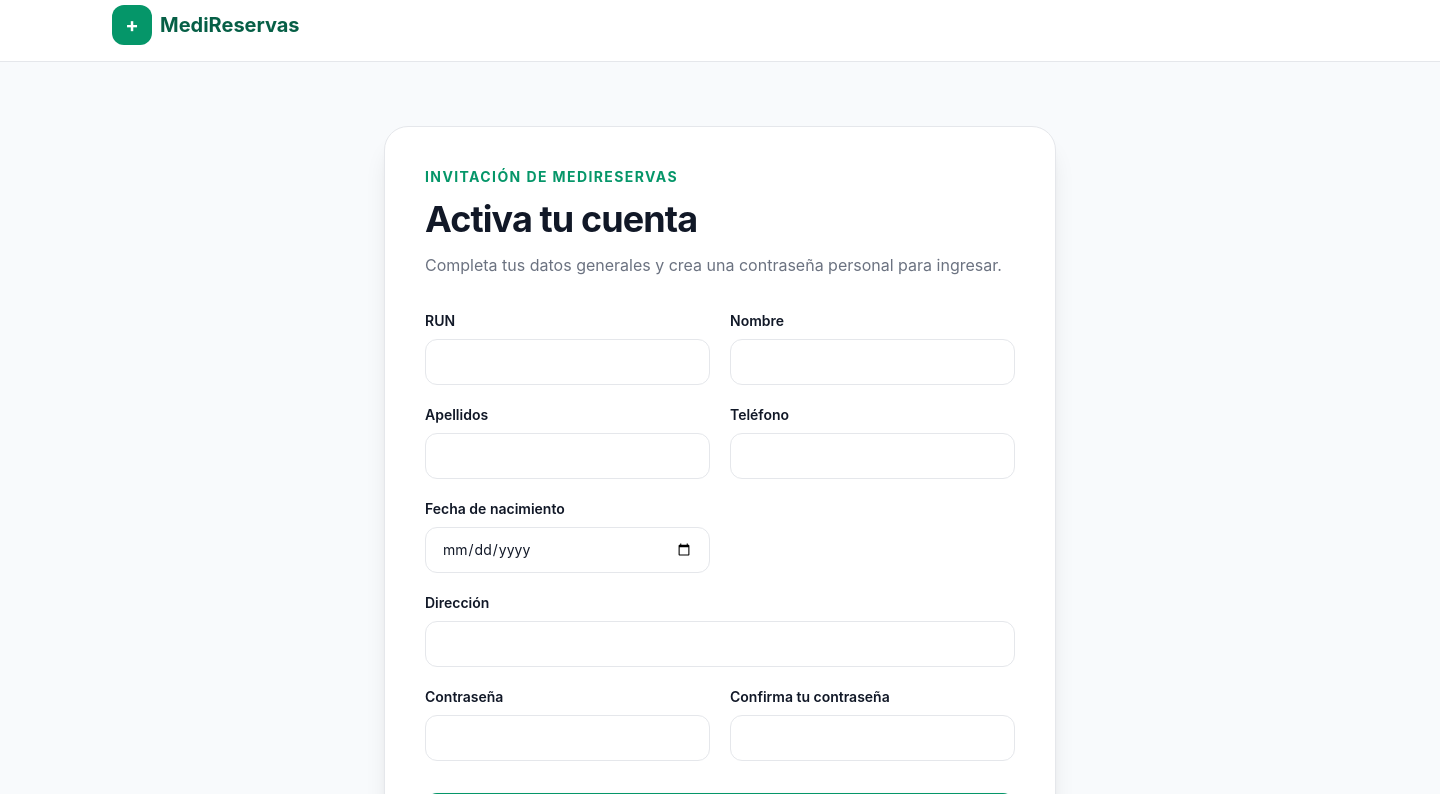
Activación por invitación › muestra el motivo del servidor si debe recuperar una activación anterior
Type "12345678-5" into the field labelled "RUN" at x=568, y=362, box [425,339,710,385]
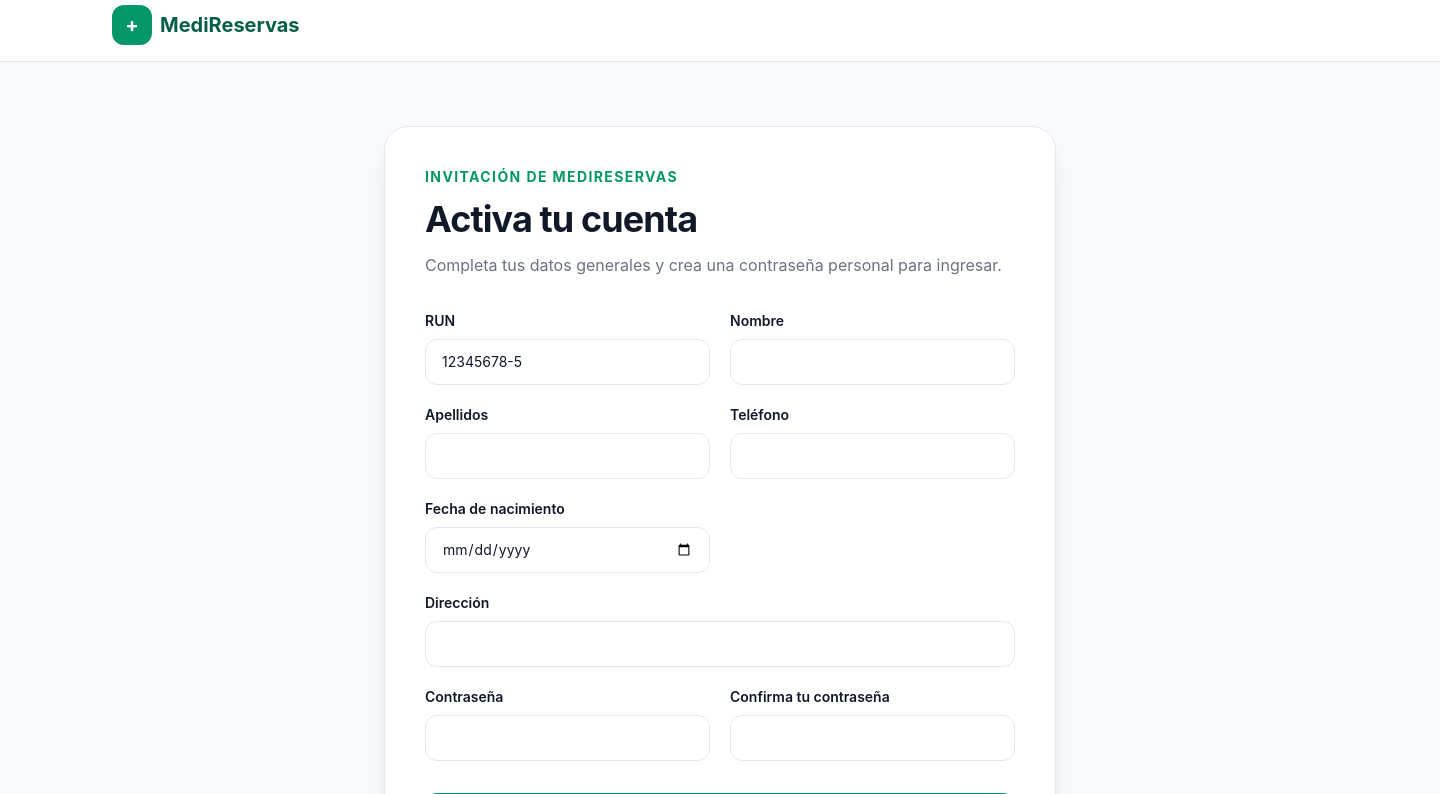
Type "Ana" into the field labelled "Nombre" at x=872, y=362, box [730,339,1015,385]
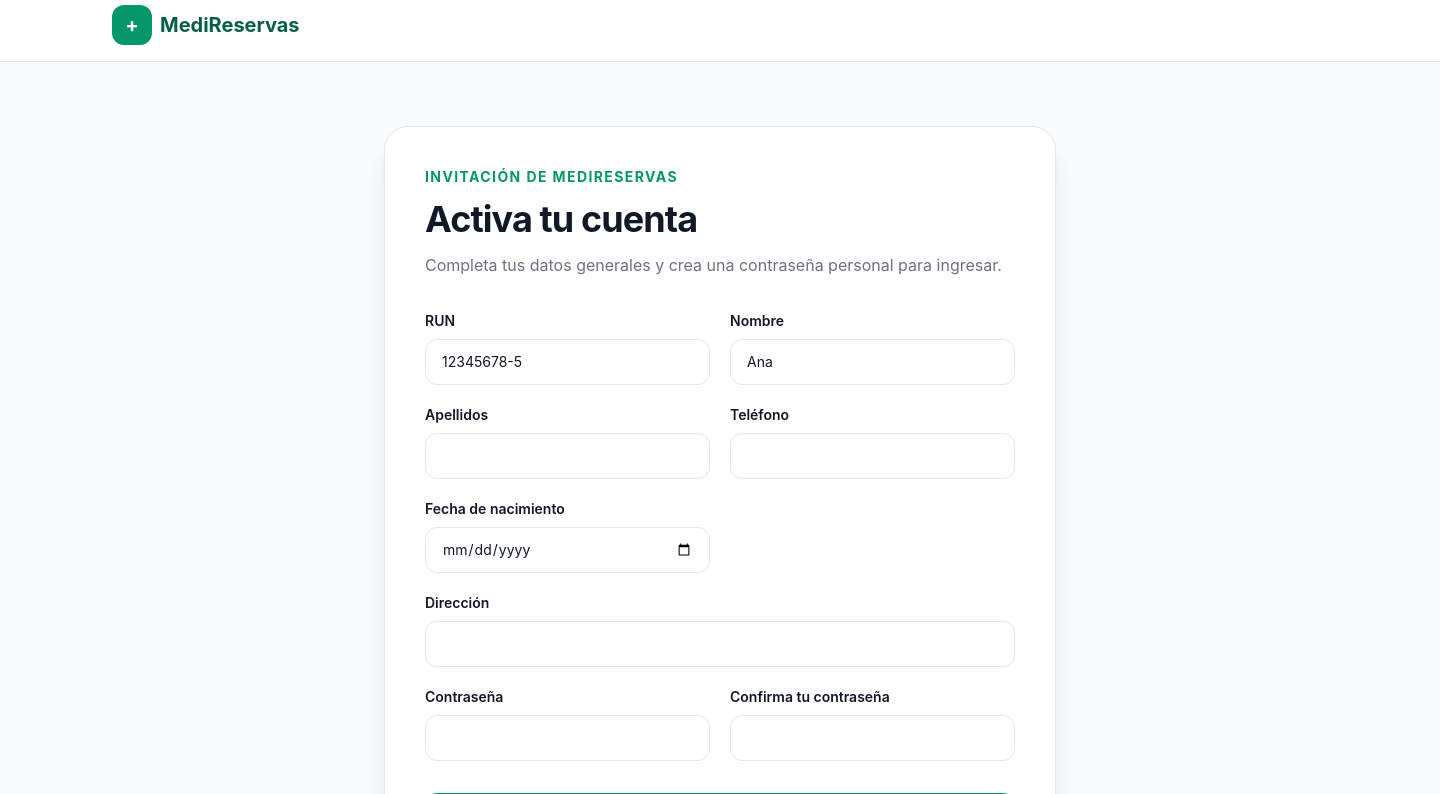
Type "Paciente" into the field labelled "Apellidos" at x=568, y=456, box [425,433,710,479]
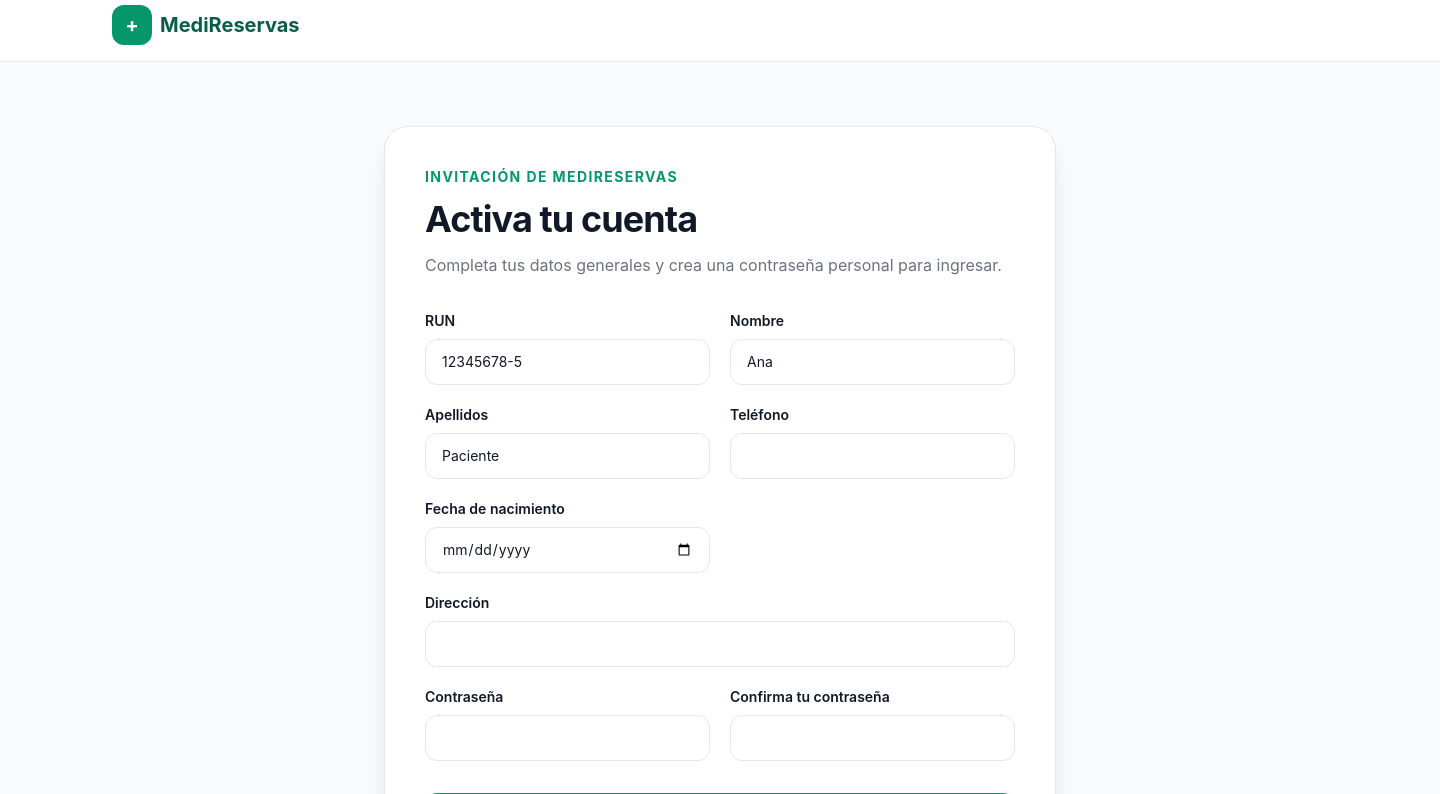
Type "same-password-123" into the password field labelled "Contraseña" at x=568, y=738, box [425,715,710,761]
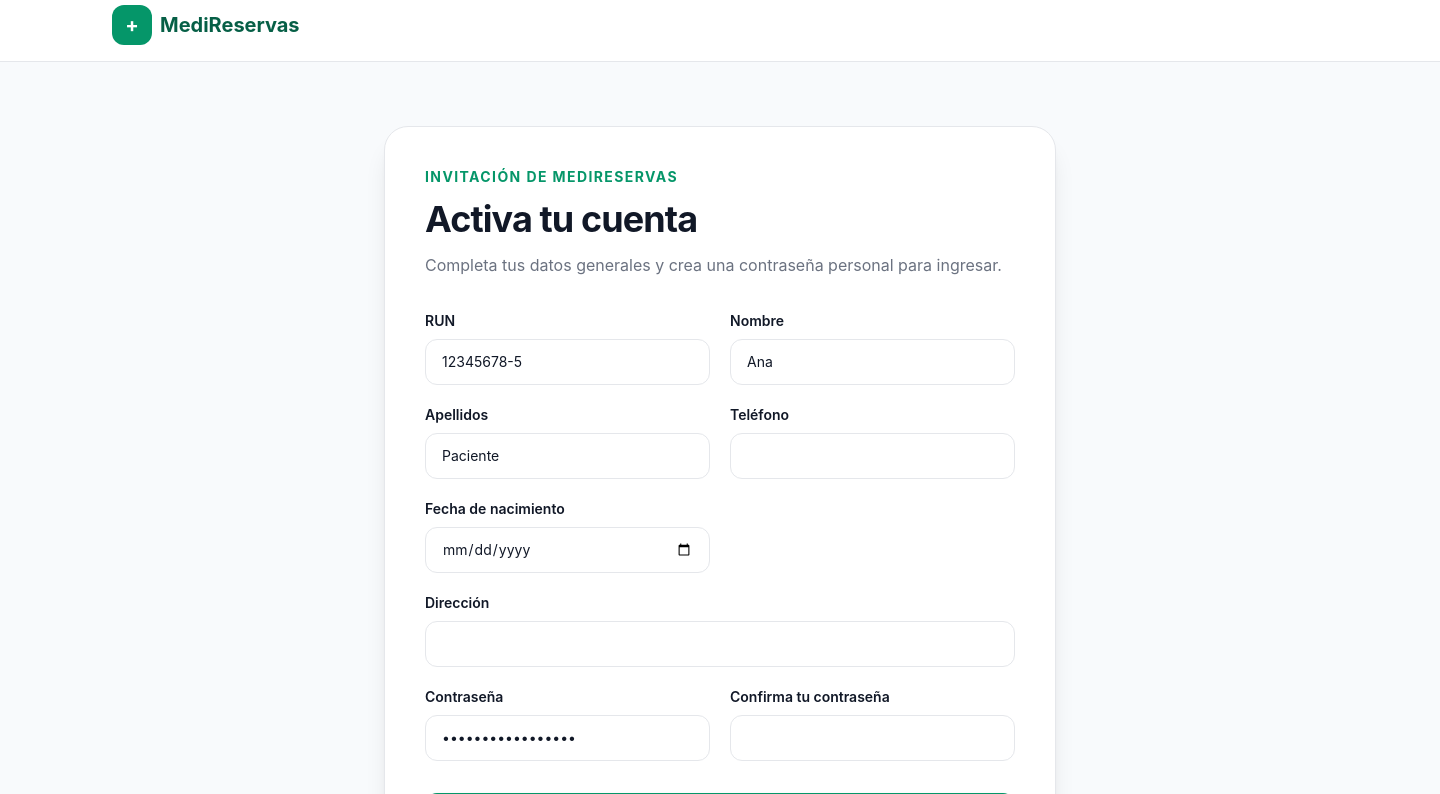
Type "same-password-123" into the password field labelled "Confirma tu contraseña" at x=872, y=738, box [730,715,1015,761]
(page scrolled)
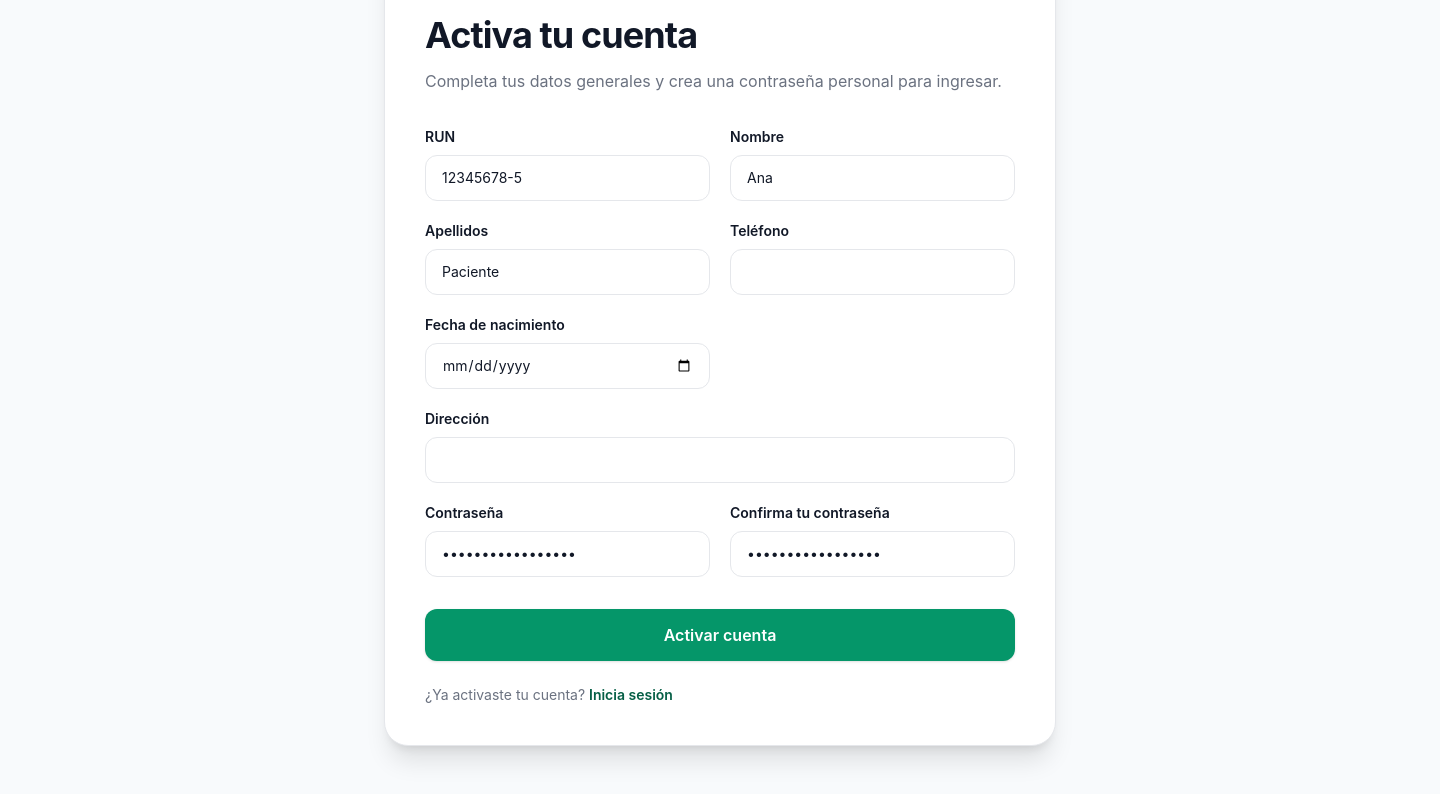
Submit the form named "Activar cuenta", box [425,127,1015,661]
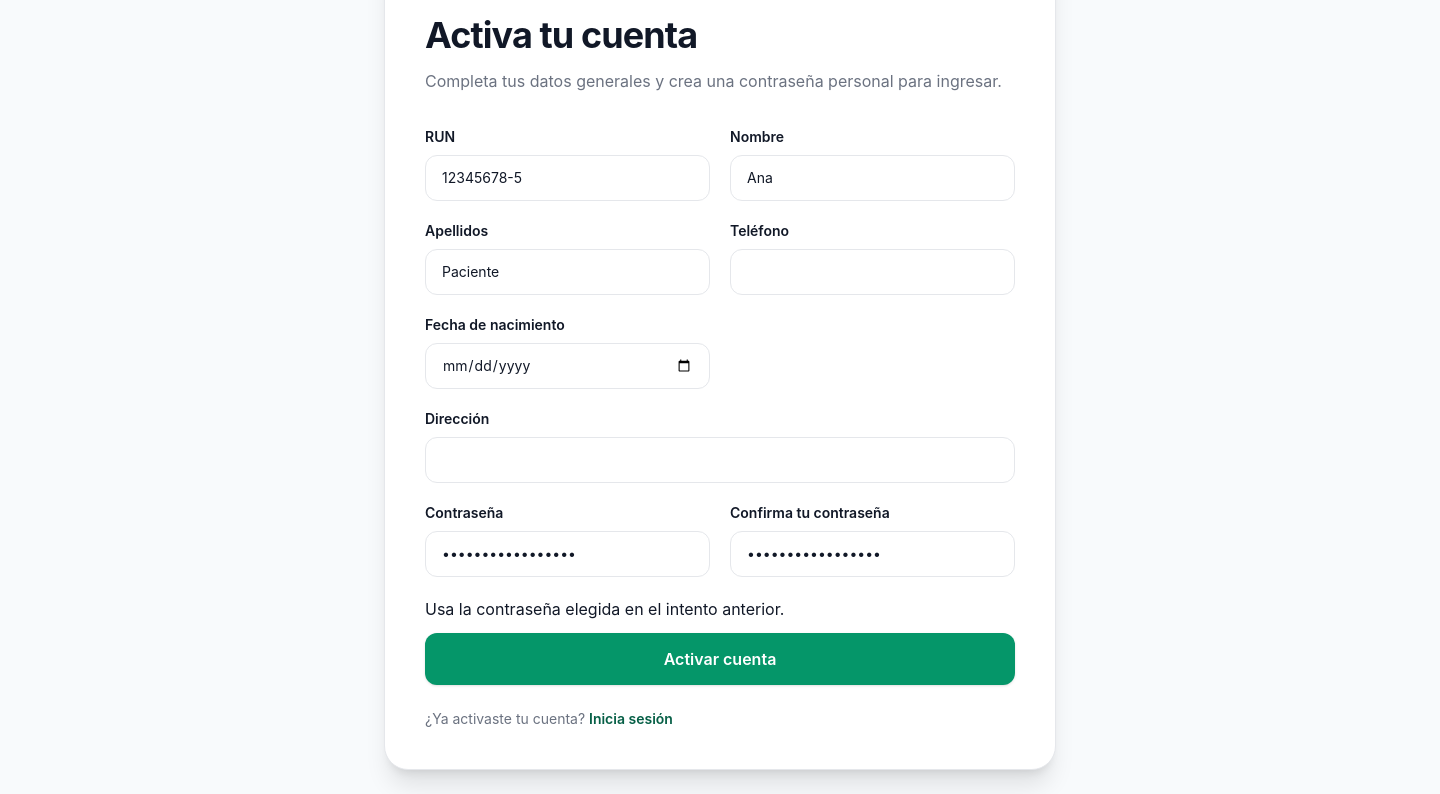
Check: the text "Usa la contraseña elegida en el intento anterior." is shown, box [425,599,784,619]
